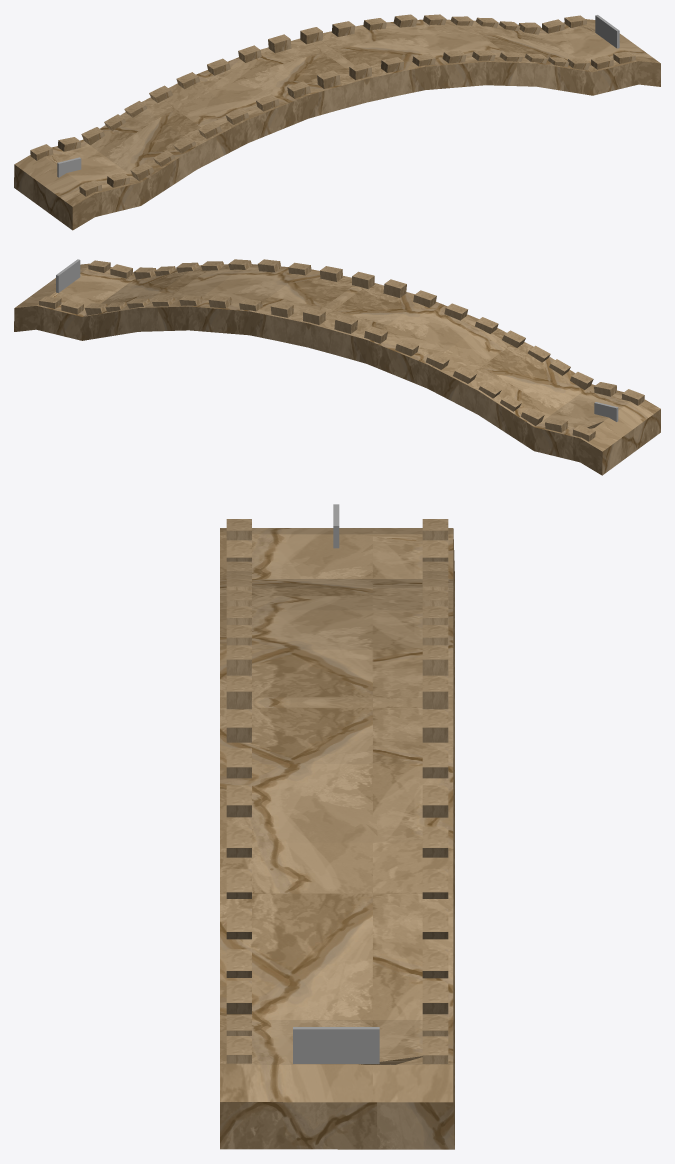
The model's file is bridge.fbx.
3 renders of one model, top to bottom at view 1: azimuth 30°, elevation 25°; view 2: azimuth 150°, elevation 25°; view 3: azimuth 270°, elevation 25°, orthographic. The views are drawn at different scales.
Parts seen in each view (by area): view 1: part_17, part_27, part_13, part_11, part_20, part_19, part_61, part_75, part_30, part_65, part_34, part_36 (+41 smaller); view 2: part_15, part_2, part_22, part_48, part_63, part_36, part_96, part_9, part_33, part_57, part_29, part_23 (+44 smaller); view 3: part_50, part_52, part_49, part_84, part_59, part_64, part_74, part_70, part_89, part_75, part_65, start_point (+39 smaller).
Boxes of the visible parts, left/top/right/bottom form: part_17: left=123, top=149, right=176, bottom=205; part_27: left=201, top=100, right=247, bottom=157; part_13: left=69, top=171, right=128, bottom=216; part_11: left=57, top=182, right=94, bottom=230; part_20: left=177, top=114, right=219, bottom=169; part_19: left=153, top=131, right=196, bottom=182; part_61: left=589, top=43, right=638, bottom=92; part_75: left=459, top=41, right=514, bottom=85; part_30: left=247, top=106, right=280, bottom=142; part_65: left=544, top=52, right=592, bottom=95; part_34: left=274, top=92, right=308, bottom=129; part_36: left=228, top=75, right=292, bottom=98; part_15: left=498, top=387, right=539, bottom=450; part_2: left=580, top=428, right=615, bottom=475; part_22: left=478, top=372, right=526, bottom=430; part_48: left=308, top=305, right=345, bottom=355; part_63: left=82, top=293, right=139, bottom=340; part_36: left=397, top=303, right=445, bottom=341; part_96: left=279, top=305, right=332, bottom=347; part_9: left=534, top=414, right=569, bottom=457; part_33: left=396, top=349, right=428, bottom=388; part_57: left=53, top=298, right=95, bottom=340; part_29: left=427, top=356, right=460, bottom=399; part_23: left=449, top=375, right=491, bottom=414; part_50: left=395, top=1065, right=454, bottom=1149; part_52: left=338, top=1065, right=403, bottom=1149; part_49: left=251, top=1065, right=324, bottom=1149; part_84: left=254, top=764, right=364, bottom=820; part_59: left=220, top=1065, right=285, bottom=1149; part_64: left=294, top=962, right=422, bottom=1019; part_74: left=317, top=842, right=416, bottom=919; part_70: left=350, top=920, right=454, bottom=1006; part_89: left=253, top=725, right=352, bottom=763; part_75: left=220, top=842, right=329, bottom=885; part_65: left=220, top=965, right=316, bottom=1019; start_point: left=293, top=1027, right=379, bottom=1063.
Size of the model in its own units: 1211 by 175 by 210.
2 materials, 1 textured.
